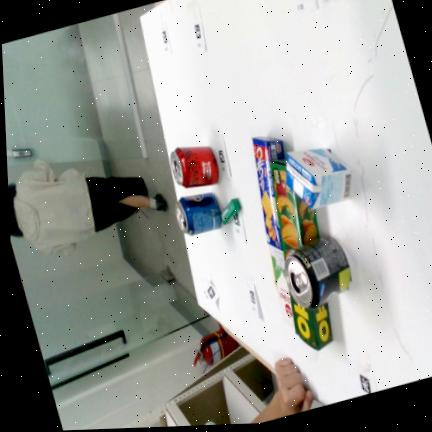can_coke_zero: (171, 146, 219, 187)
can_pepsi: (176, 193, 222, 235)
can_pepsi_zero: (285, 236, 351, 309)
cracker_ace: (253, 137, 286, 249)
cracker_vege: (270, 160, 319, 257), (291, 295, 333, 350)
gum_green: (221, 198, 241, 223)
milk_blue: (287, 149, 352, 209)
milk_green: (270, 245, 294, 328)
